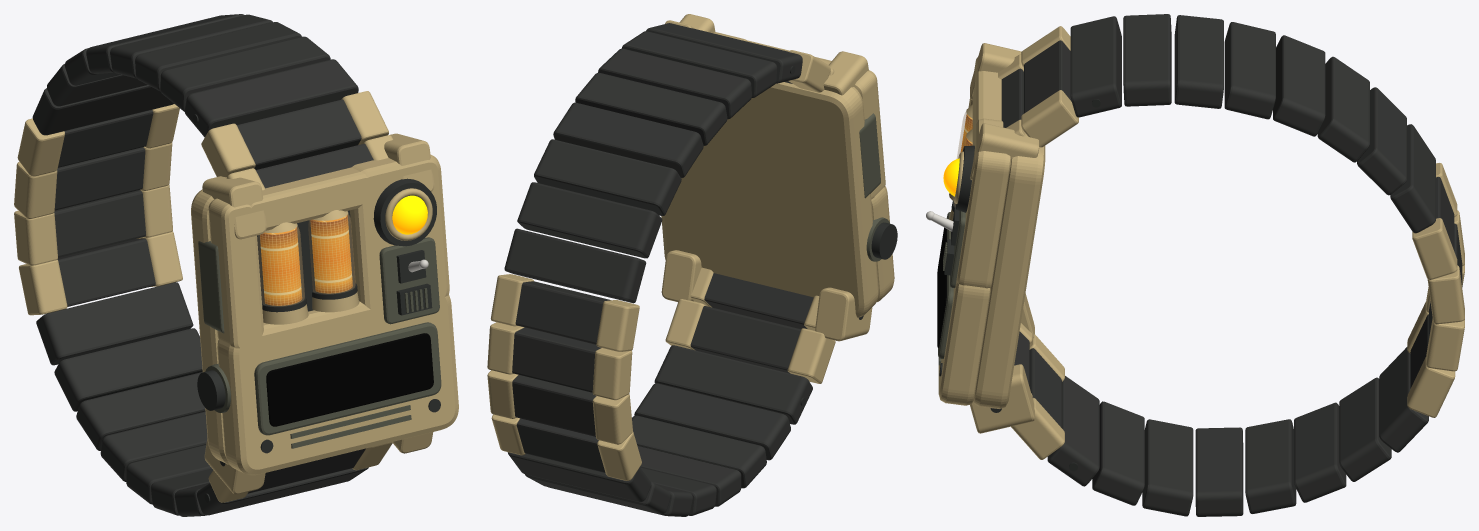
The model's file is relogio-qlink.glb.
3 views of the same model, side by side, from view 1: azimuth 30°, elevation 25°; view 2: azimuth 150°, elevation 25°; view 3: azimuth 270°, elevation 25° (orthographic). The views are drawn at different scales.
Visible parts, largest first — view 1: Bracelete_Articulada, Moldura_Frontal_Inferior, Visor_Digital_Inferior, Caixa_Principal, Elo_Pulseira_15, Elo_Pulseira_3, Elo_Pulseira_16, Painel_Controles_Direito, Elo_Pulseira_2, Elo_Pulseira_17, Elo_Pulseira_4, Elo_Pulseira_14 (+25 smaller); view 2: Base_Caixa_Metalica, Bracelete_Articulada, Elo_Pulseira_9, Elo_Pulseira_8, Elo_Pulseira_22, Elo_Pulseira_10, Elo_Pulseira_7, Elo_Pulseira_21, Elo_Pulseira_6, Elo_Pulseira_23, Elo_Pulseira_5, Elo_Pulseira_20 (+17 smaller); view 3: Bracelete_Articulada, Base_Caixa_Metalica, Painel_Controles_Direito, Elo_Pulseira_3, Elo_Pulseira_6, Elo_Pulseira_20, Elo_Pulseira_5, Elo_Pulseira_4, Moldura_Frontal_Inferior, Elo_Pulseira_7, Elo_Pulseira_19, Elo_Pulseira_18 (+19 smaller).
Boxes of the visible parts, bbox=[...] form: Bracelete_Articulada: bbox=[14, 91, 393, 502]; Moldura_Frontal_Inferior: bbox=[217, 294, 458, 475]; Visor_Digital_Inferior: bbox=[254, 322, 441, 435]; Caixa_Principal: bbox=[208, 167, 440, 453]; Elo_Pulseira_15: bbox=[36, 282, 193, 365]; Elo_Pulseira_3: bbox=[184, 59, 358, 137]; Elo_Pulseira_16: bbox=[54, 328, 202, 411]; Painel_Controles_Direito: bbox=[350, 155, 449, 315]; Elo_Pulseira_2: bbox=[237, 99, 361, 169]; Elo_Pulseira_17: bbox=[76, 372, 205, 450]; Elo_Pulseira_4: bbox=[160, 36, 330, 111]; Elo_Pulseira_14: bbox=[57, 238, 155, 306]; Base_Caixa_Metalica: bbox=[661, 82, 878, 317]; Bracelete_Articulada: bbox=[487, 20, 835, 480]; Elo_Pulseira_9: bbox=[517, 182, 662, 258]; Elo_Pulseira_8: bbox=[534, 139, 681, 215]; Elo_Pulseira_22: bbox=[654, 345, 812, 424]; Elo_Pulseira_10: bbox=[504, 228, 646, 303]; Elo_Pulseira_7: bbox=[553, 102, 703, 178]; Elo_Pulseira_21: bbox=[634, 383, 790, 460]; Elo_Pulseira_6: bbox=[575, 72, 727, 145]; Elo_Pulseira_23: bbox=[690, 306, 800, 373]; Elo_Pulseira_5: bbox=[598, 48, 751, 119]; Elo_Pulseira_20: bbox=[632, 415, 766, 488]; Bracelete_Articulada: bbox=[998, 26, 1464, 471]; Base_Caixa_Metalica: bbox=[973, 146, 1045, 408]; Painel_Controles_Direito: bbox=[956, 118, 1011, 288]; Elo_Pulseira_3: bbox=[1070, 16, 1121, 117]; Elo_Pulseira_6: bbox=[1224, 22, 1275, 119]; Elo_Pulseira_20: bbox=[1142, 419, 1193, 516]; Elo_Pulseira_5: bbox=[1174, 15, 1223, 108]; Elo_Pulseira_4: bbox=[1123, 14, 1171, 106]; Moldura_Frontal_Inferior: bbox=[938, 276, 990, 405]; Elo_Pulseira_7: bbox=[1273, 35, 1325, 136]; Elo_Pulseira_19: bbox=[1195, 427, 1243, 516]; Elo_Pulseira_18: bbox=[1245, 419, 1296, 513].
Size of the model in its own units: 0.0627 by 0.1144 by 0.1277.
Materials: 9 (2 with a texture image).
